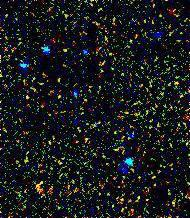star: (114, 116, 144, 146)
